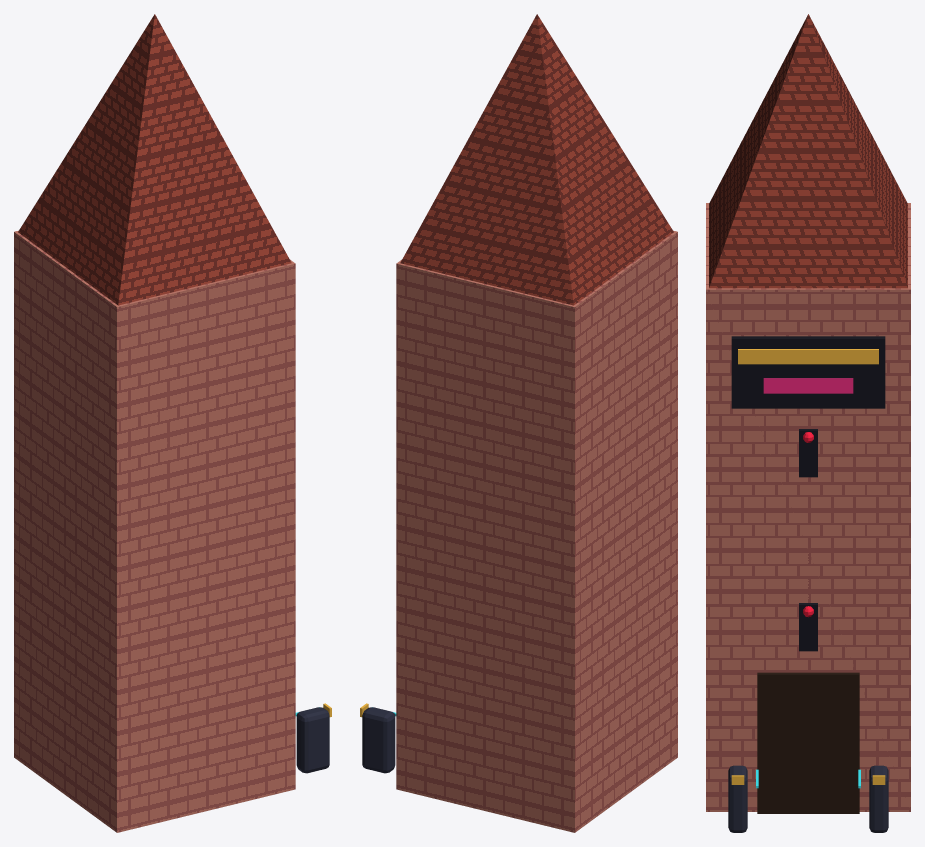
The model's file is pf_tour_peage.glb.
The picture shows the model from 3 angles, left to right: view 1: azimuth 30°, elevation 25°; view 2: azimuth 150°, elevation 25°; view 3: azimuth 270°, elevation 25°; orthographic projection.
Parts seen in each view (by area): view 1: p_box.1568, p_cone.002, p_rbox.161; view 2: p_box.1568, p_cone.002, p_rbox.162; view 3: p_box.1568, p_cone.002, p_box.1574, p_box.1571, p_box.1572, p_box.1573, p_rbox.161, p_rbox.162, p_box.1569, p_box.1570.
Part boxes in pixels (bbox=[...]): p_box.1568: bbox=[14, 230, 295, 832]; p_cone.002: bbox=[18, 14, 291, 305]; p_rbox.161: bbox=[296, 707, 329, 773]; p_box.1568: bbox=[396, 230, 677, 832]; p_cone.002: bbox=[400, 14, 673, 305]; p_rbox.162: bbox=[362, 707, 395, 773]; p_box.1568: bbox=[706, 203, 910, 811]; p_cone.002: bbox=[709, 14, 907, 288]; p_box.1574: bbox=[757, 672, 859, 813]; p_box.1571: bbox=[731, 336, 885, 408]; p_box.1572: bbox=[738, 349, 878, 364]; p_box.1573: bbox=[763, 378, 853, 393]; p_rbox.161: bbox=[728, 765, 747, 832]; p_rbox.162: bbox=[869, 765, 888, 832]; p_box.1569: bbox=[799, 603, 817, 651]; p_box.1570: bbox=[799, 429, 817, 477].
Size of the model in its own units: 4.1 by 13 by 3.2.
Materials: 9 (2 with a texture image).
